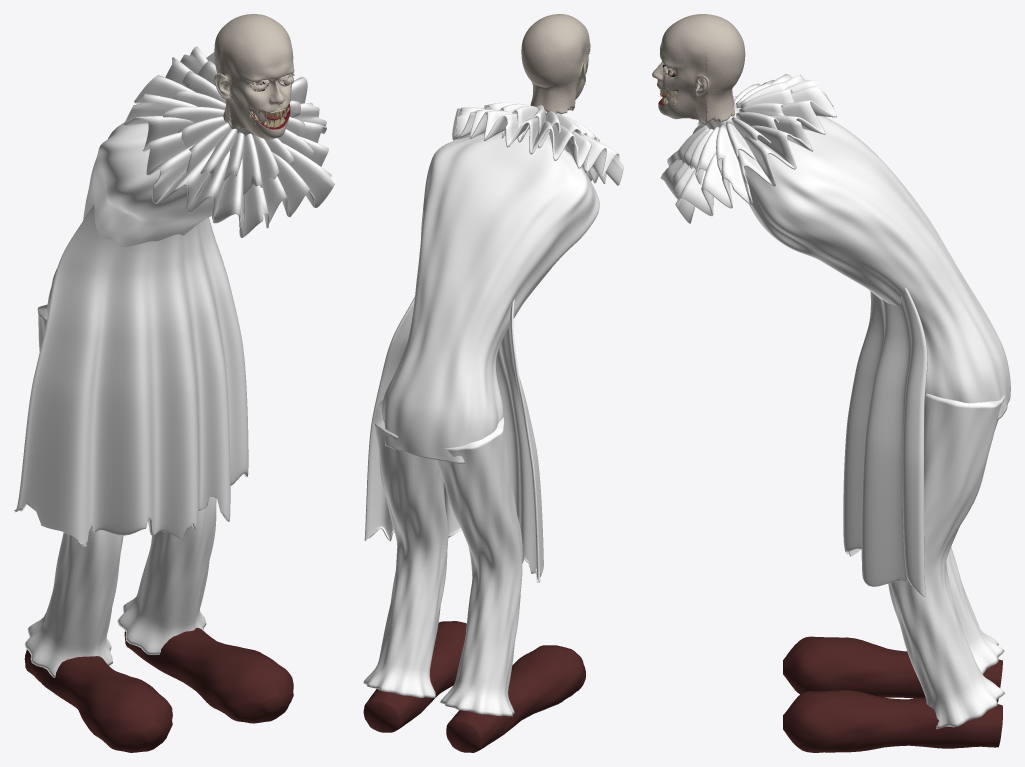
Rendered from clown-desktop.glb.
3 renders of one model, left to right at view 1: azimuth 30°, elevation 25°; view 2: azimuth 150°, elevation 25°; view 3: azimuth 270°, elevation 25°, orthographic. The views are drawn at different scales.
Visible parts, largest first — view 1: Body, Head; view 2: Body, Head; view 3: Body, Head.
Boxes of the visible parts, x1,y1,x2,y2 form: Body: (14, 46, 334, 752); Head: (214, 14, 294, 139); Body: (363, 102, 623, 752); Head: (521, 14, 590, 113); Body: (660, 74, 1010, 752); Head: (652, 14, 745, 125).
Bounding box in the file's own units: 0.6057 × 1.98 × 0.9156.
